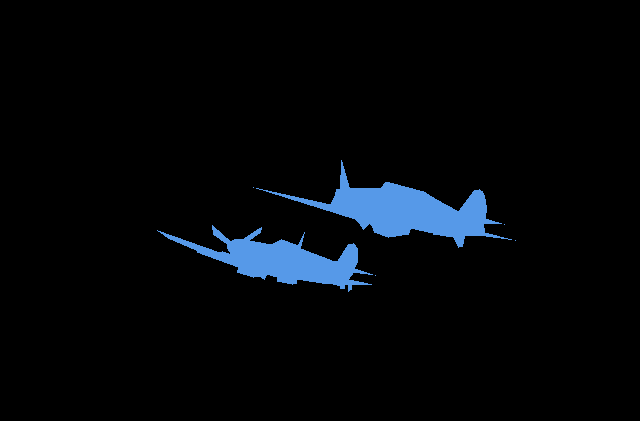Airplane: (253, 160, 516, 247), (157, 225, 376, 291)
